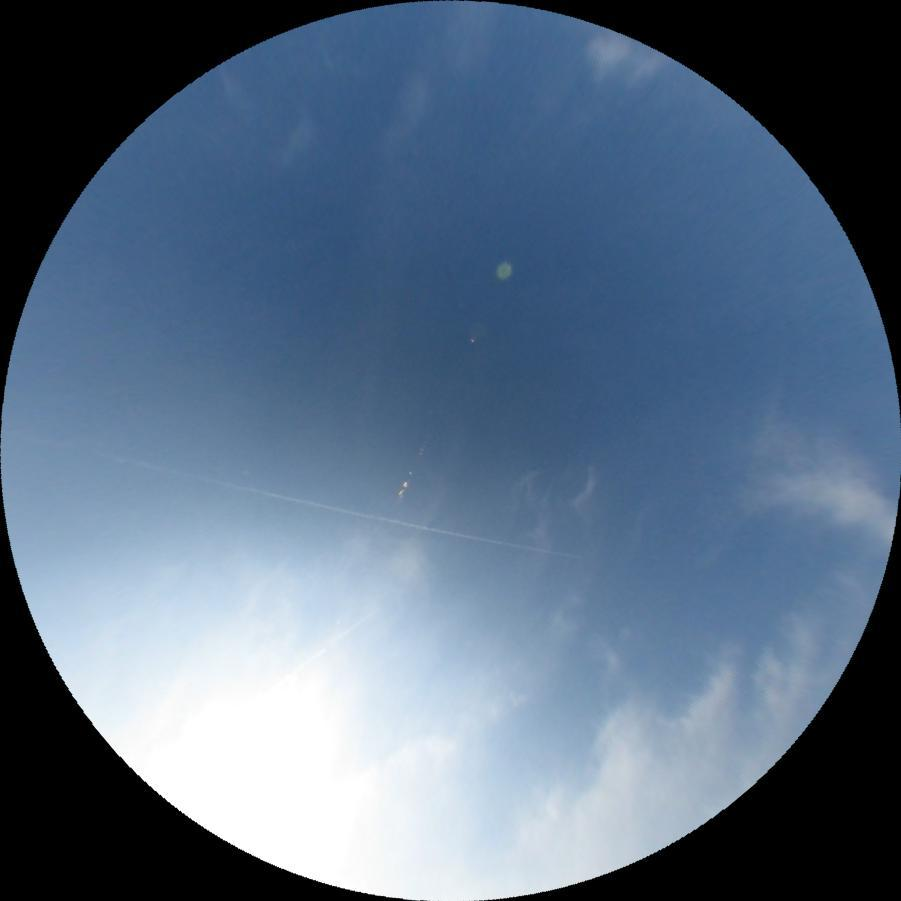contrail young: (6, 432, 582, 564)
parasite: (277, 603, 377, 686)
